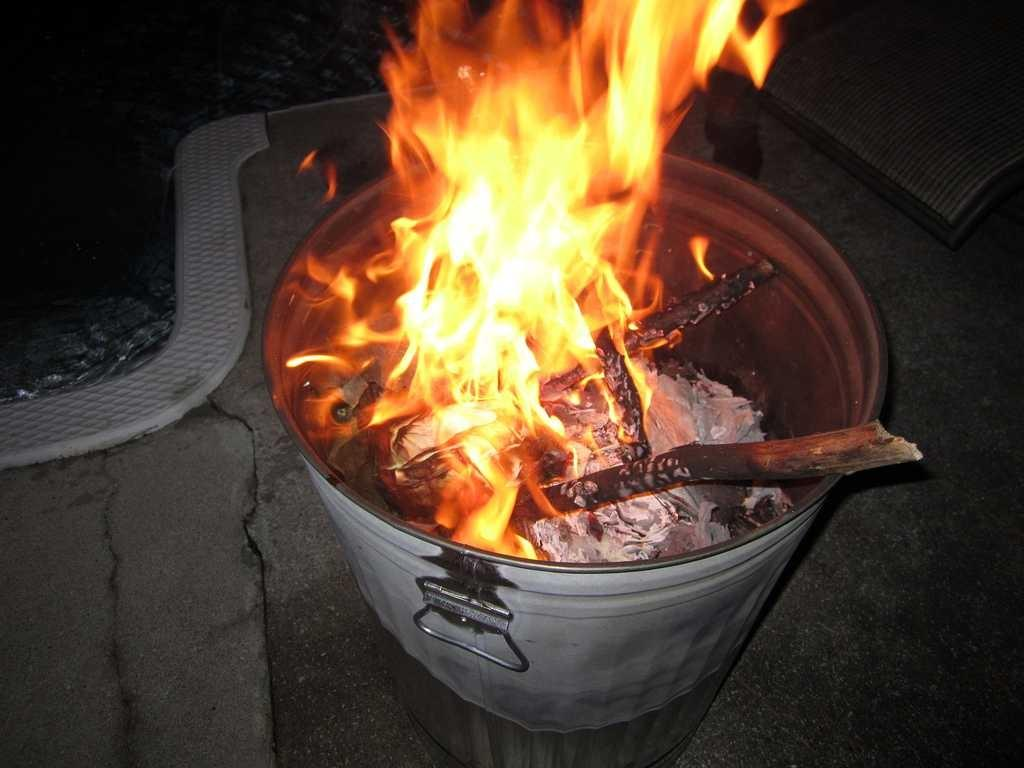fire: (398, 84, 640, 392), (582, 14, 724, 62)
